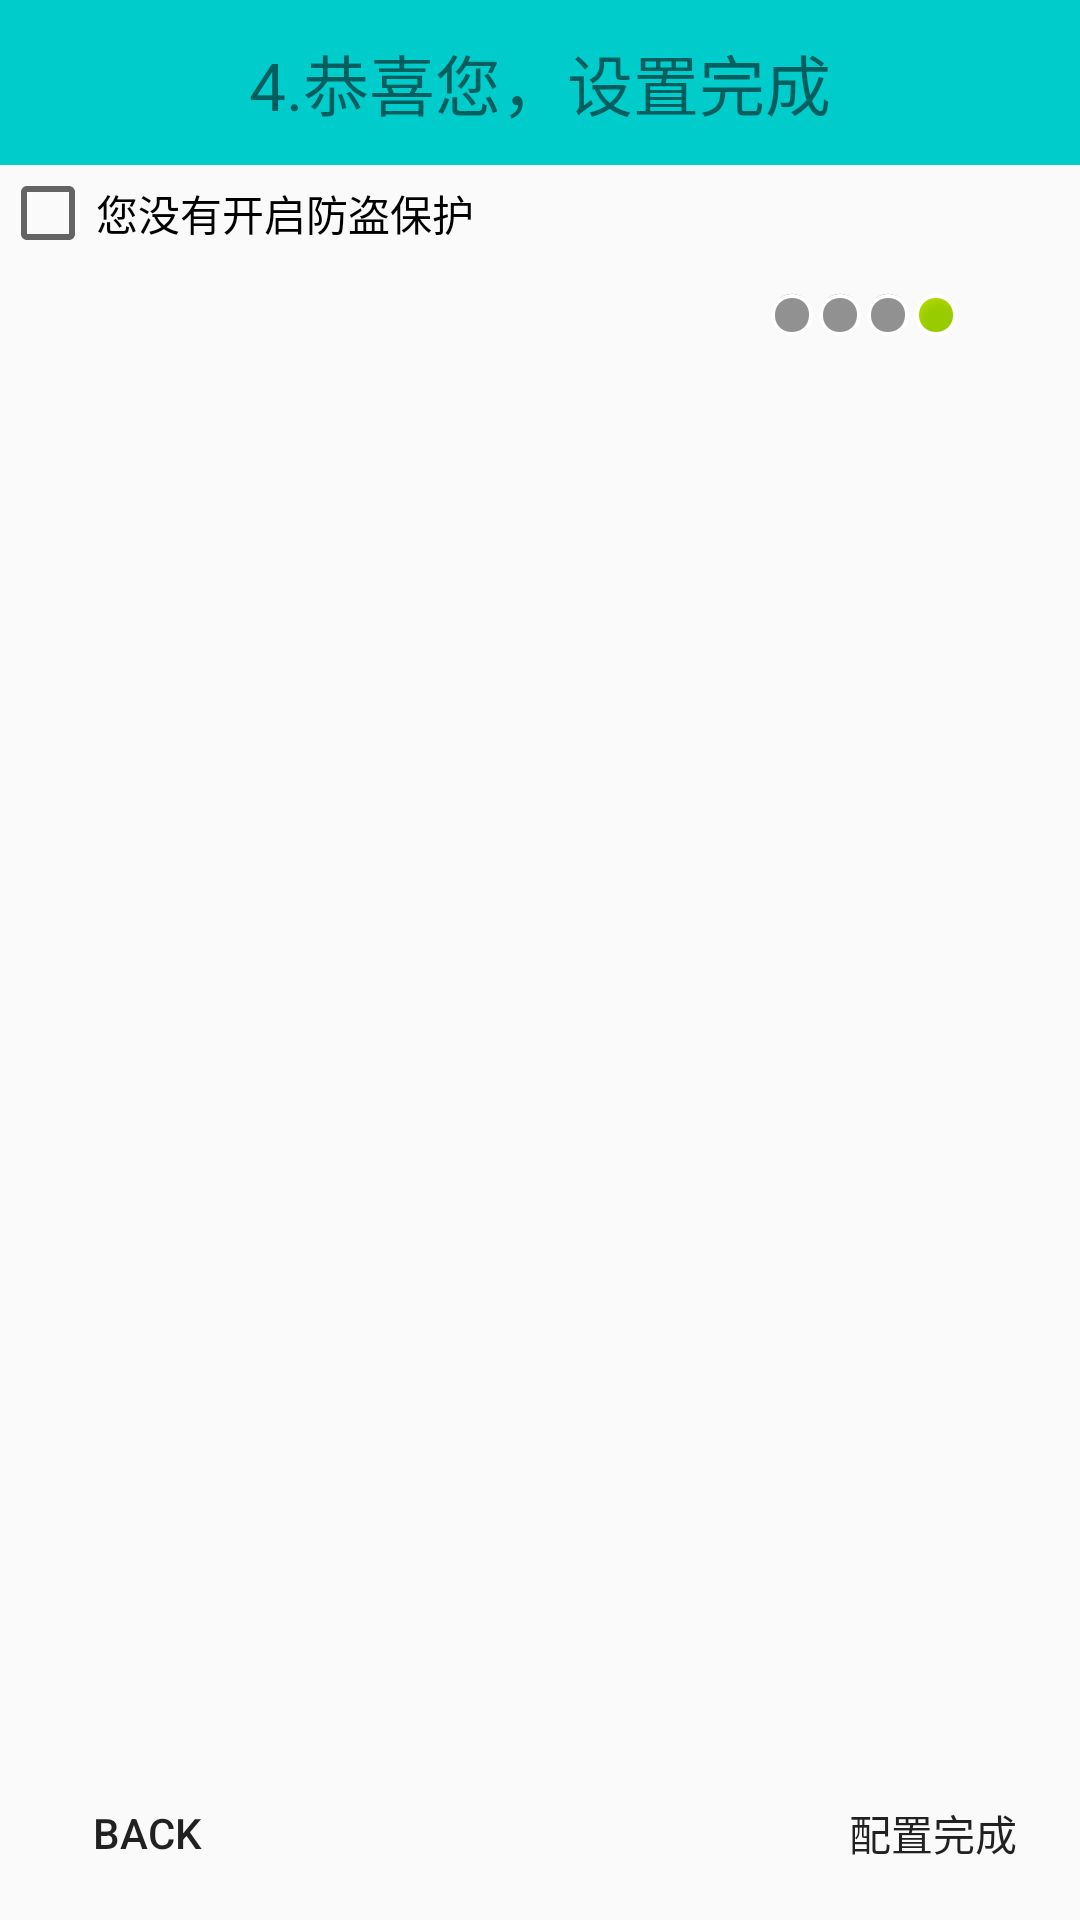

Where icons sit on this 1080*1920 app screen, as {"x1": x1, "y1": y1, "x2": x2, "y2": y2}:
presence invisible: {"x1": 775, "y1": 294, "x2": 809, "y2": 332}, {"x1": 823, "y1": 294, "x2": 857, "y2": 332}, {"x1": 871, "y1": 294, "x2": 905, "y2": 332}
presence online: {"x1": 919, "y1": 298, "x2": 953, "y2": 332}
